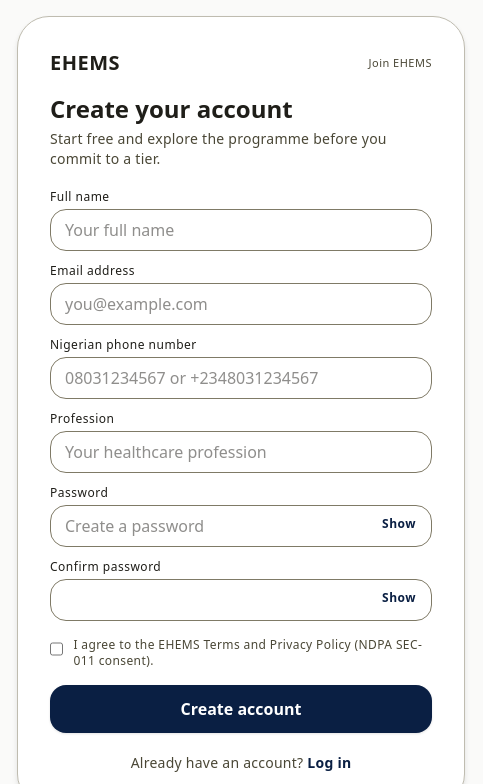
Test: password reveal › relabels the control so its new state is announced
The image size is (483, 784).
Click the button with aria-label "show password" at [399, 524], box x1=372 y1=502 x2=426 y2=546
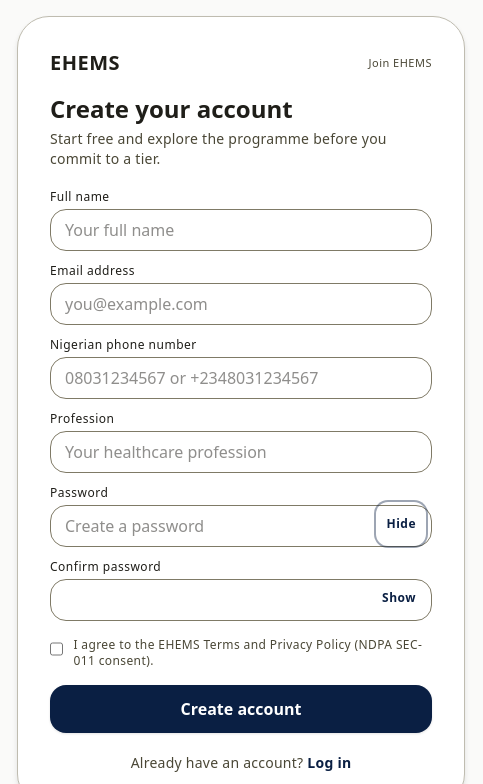
expect the button with aria-label "hide password" is shown: met, box x1=376 y1=502 x2=426 y2=546
